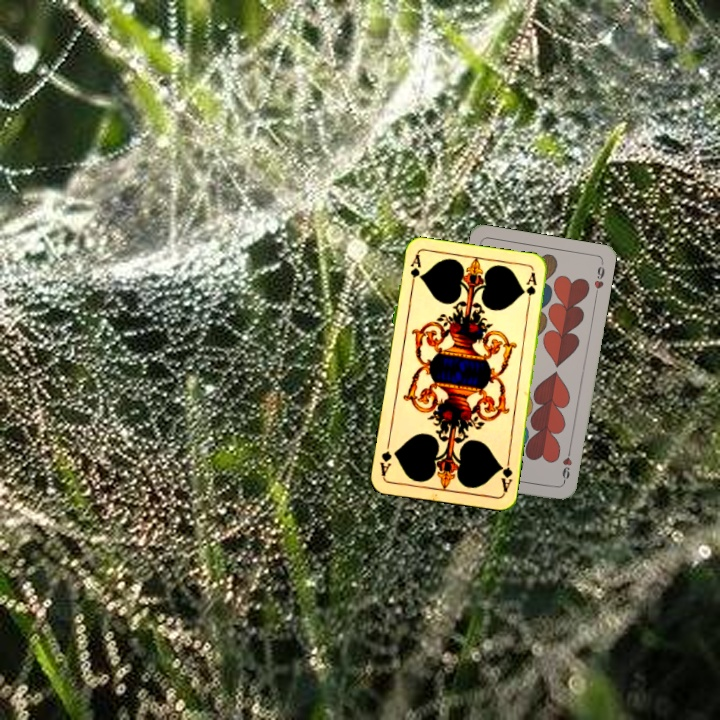GA: (496, 455, 515, 495), (406, 251, 424, 291)
H9: (558, 445, 574, 485)
